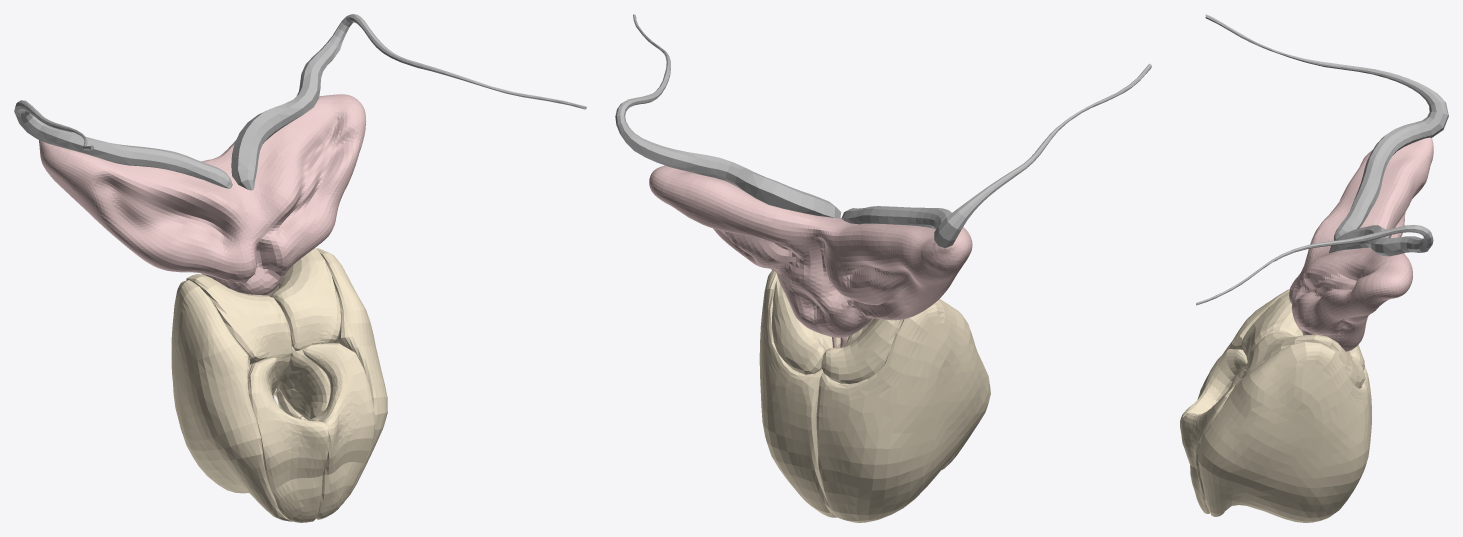
The model's file is VH_M_Prostate_0.8.glb.
3 views of the same model, side by side, from view 1: azimuth 30°, elevation 25°; view 2: azimuth 150°, elevation 25°; view 3: azimuth 270°, elevation 25° (orthographic). The views are drawn at different scales.
Visible parts, largest first — view 1: VH_M_seminal_vesicle, VH_M_peripheral_zone_of_prostate_R, VH_M_anterior_fibromuscular_stroma_R, VH_M_anterior_fibromuscular_stroma_L, VH_M_vas_deferens_R, VH_M_vas_deferens_L, VH_M_central_zone_of_prostate_L, VH_M_peripheral_zone_of_prostate_L, VH_M_central_zone_of_prostate_R, VH_M_base_of_prostate, VH_M_transition_zone__of_prostate_L; view 2: VH_M_peripheral_zone_of_prostate_R, VH_M_seminal_vesicle, VH_M_peripheral_zone_of_prostate_L, VH_M_vas_deferens_R, VH_M_vas_deferens_L, VH_M_central_zone_of_prostate_R, VH_M_central_zone_of_prostate_L; view 3: VH_M_peripheral_zone_of_prostate_L, VH_M_seminal_vesicle, VH_M_vas_deferens_L, VH_M_vas_deferens_R, VH_M_central_zone_of_prostate_L, VH_M_central_zone_of_prostate_R, VH_M_anterior_fibromuscular_stroma_L, VH_M_anterior_fibromuscular_stroma_R, VH_M_base_of_prostate, VH_M_peripheral_zone_of_prostate_R.
Boxes of the visible parts, x1,y1,x2,y2 form: VH_M_seminal_vesicle: (39,94,366,295); VH_M_peripheral_zone_of_prostate_R: (171,280,293,521); VH_M_anterior_fibromuscular_stroma_R: (248,357,329,522); VH_M_anterior_fibromuscular_stroma_L: (302,343,375,519); VH_M_vas_deferens_R: (231,14,586,190); VH_M_vas_deferens_L: (14,100,232,188); VH_M_central_zone_of_prostate_L: (267,248,340,387); VH_M_peripheral_zone_of_prostate_L: (272,248,387,499); VH_M_central_zone_of_prostate_R: (186,274,292,364); VH_M_base_of_prostate: (235,317,365,454); VH_M_transition_zone__of_prostate_L: (277,346,330,420); VH_M_peripheral_zone_of_prostate_R: (816,299,990,522); VH_M_seminal_vesicle: (649,165,972,337); VH_M_peripheral_zone_of_prostate_L: (759,270,837,517); VH_M_vas_deferens_R: (615,14,841,217); VH_M_vas_deferens_L: (841,63,1151,248); VH_M_central_zone_of_prostate_R: (821,318,902,383); VH_M_central_zone_of_prostate_L: (772,277,848,374); VH_M_peripheral_zone_of_prostate_L: (1197,342,1371,522); VH_M_seminal_vesicle: (1289,137,1433,351); VH_M_vas_deferens_L: (1205,14,1448,240); VH_M_vas_deferens_R: (1196,225,1433,305); VH_M_central_zone_of_prostate_L: (1241,332,1365,388); VH_M_central_zone_of_prostate_R: (1241,292,1364,369); VH_M_anterior_fibromuscular_stroma_L: (1181,380,1240,513); VH_M_anterior_fibromuscular_stroma_R: (1180,349,1247,443); VH_M_base_of_prostate: (1182,325,1252,447); VH_M_peripheral_zone_of_prostate_R: (1200,289,1371,409).
Size of the model in its own units: 0.083 by 0.0706 by 0.0428.
